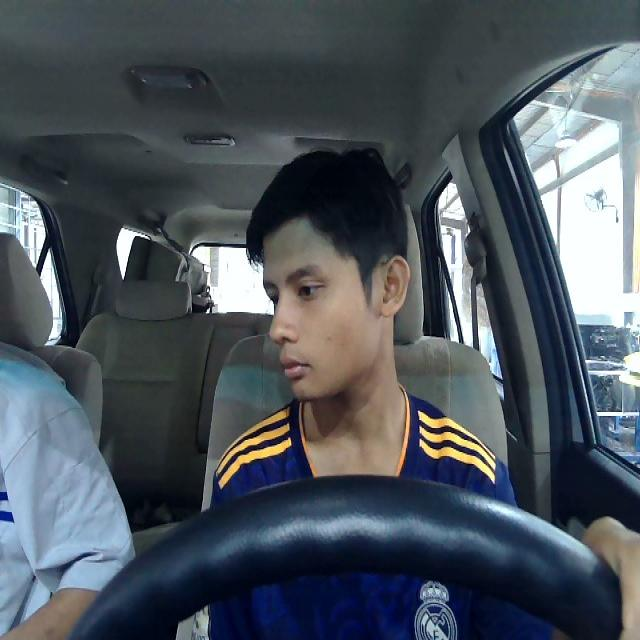seeing_left: (259, 212, 410, 401)
